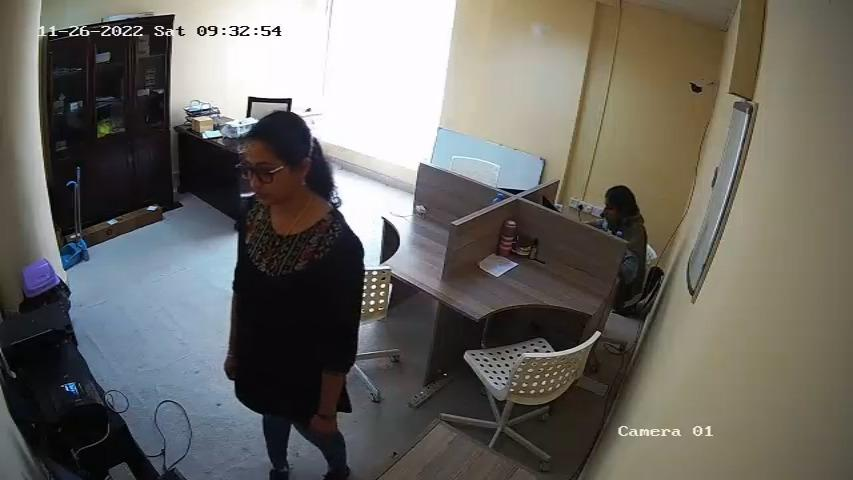no_apron: (238, 204, 327, 387)
